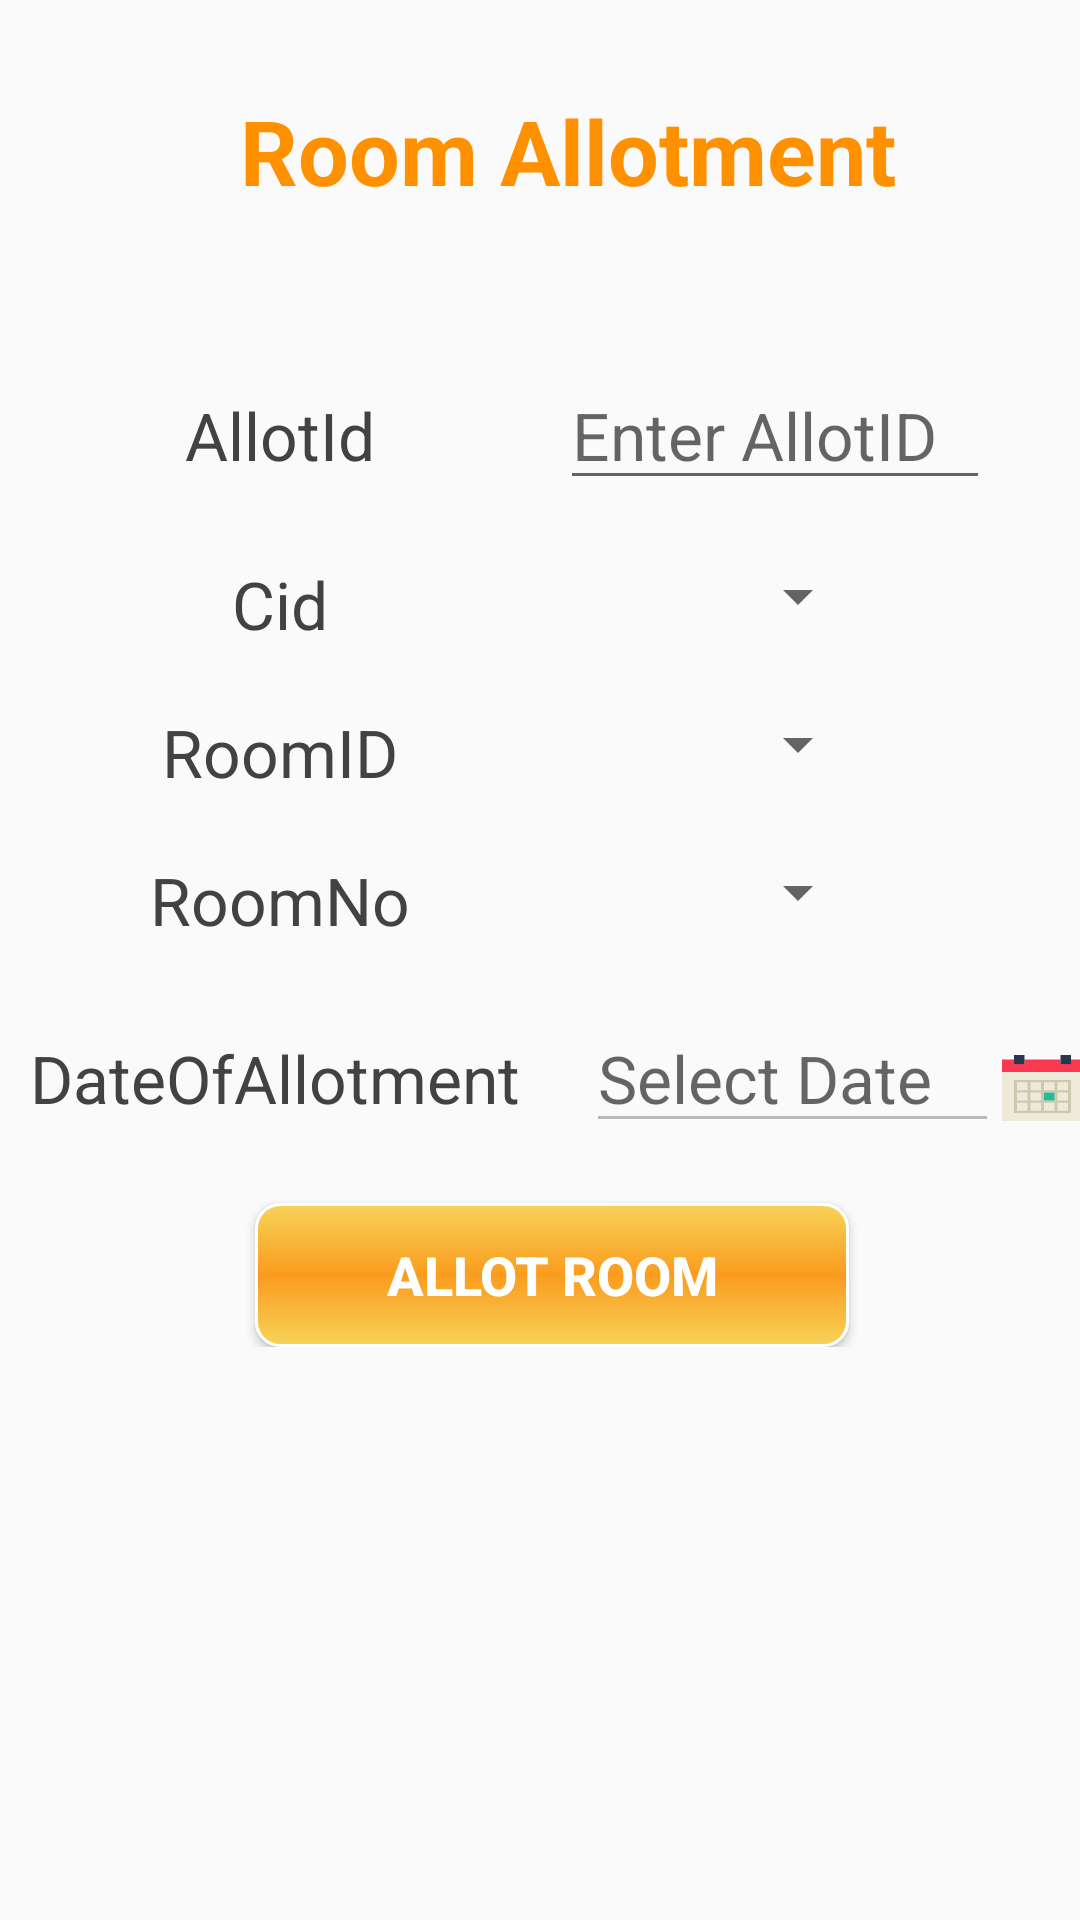

Named icons in this screenshot (1080x1920) and their bounding boxes, Rect(x1, y1, x2, y2):
calendar: Rect(1002, 1055, 1080, 1121)
